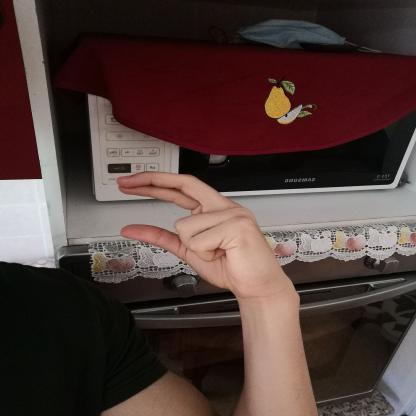DHELL: (107, 165, 289, 296)
